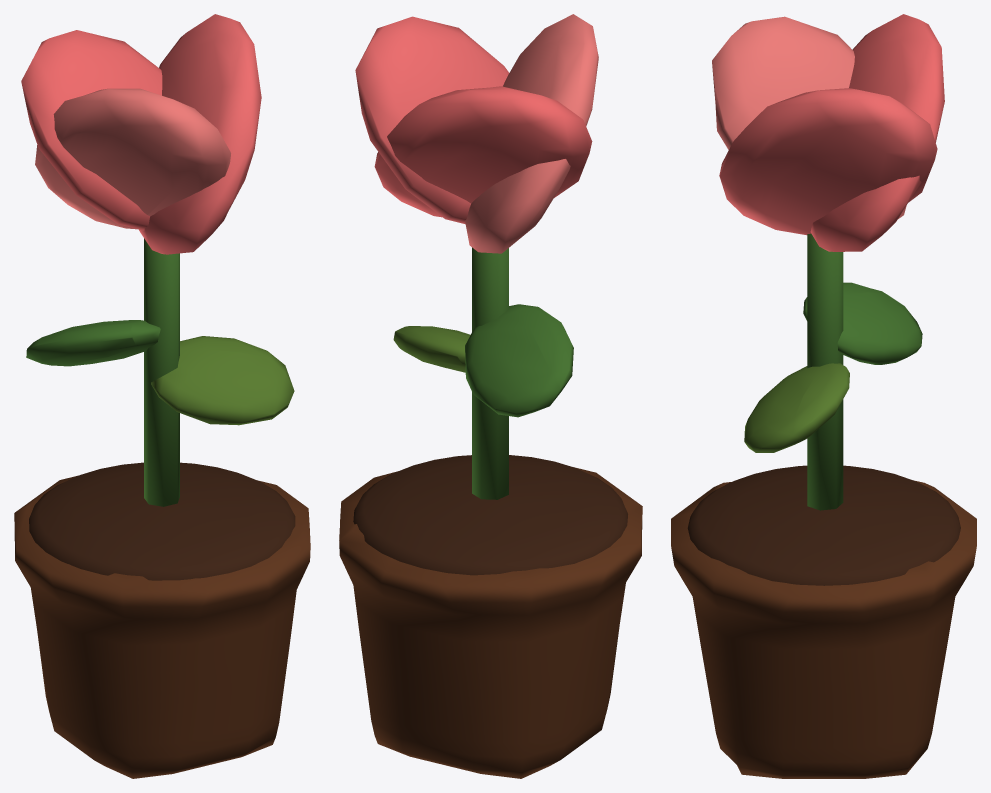
Rendered from flower_pot.glb.
3 renders of one model, left to right at view 1: azimuth 30°, elevation 25°; view 2: azimuth 150°, elevation 25°; view 3: azimuth 270°, elevation 25°, orthographic. The views are drawn at different scales.
Visible parts, largest first — view 1: Pot, Soil, Petal5, Petal4, Petal3, Petal, Cylinder, Petal2; view 2: Pot, Soil, Petal3, Petal4, Petal5, Petal2, Cylinder, Petal; view 3: Pot, Soil, Petal4, Petal3, Petal5, Cylinder, Petal, Petal2.
Part boxes in pixels (bbox=[...]): Pot: bbox=[14, 475, 310, 778]; Soil: bbox=[29, 462, 295, 580]; Petal5: bbox=[35, 88, 230, 229]; Petal4: bbox=[139, 14, 261, 254]; Petal3: bbox=[21, 30, 162, 230]; Petal: bbox=[151, 336, 294, 425]; Cylinder: bbox=[144, 238, 179, 506]; Petal2: bbox=[26, 320, 160, 366]; Pot: bbox=[339, 467, 642, 778]; Soil: bbox=[353, 455, 627, 575]; Petal3: bbox=[374, 86, 592, 217]; Petal4: bbox=[355, 16, 509, 224]; Petal5: bbox=[465, 14, 598, 253]; Petal2: bbox=[465, 304, 573, 417]; Cylinder: bbox=[472, 247, 508, 499]; Petal: bbox=[393, 326, 470, 372]; Pot: bbox=[671, 480, 976, 778]; Soil: bbox=[687, 465, 960, 585]; Petal4: bbox=[719, 88, 937, 235]; Petal3: bbox=[810, 14, 944, 251]; Petal5: bbox=[712, 16, 906, 218]; Cylinder: bbox=[807, 233, 843, 510]; Petal: bbox=[744, 363, 849, 452]; Petal2: bbox=[803, 282, 922, 364].
Bounding box in the file's own units: 0.3288 × 0.8236 × 0.3288.
